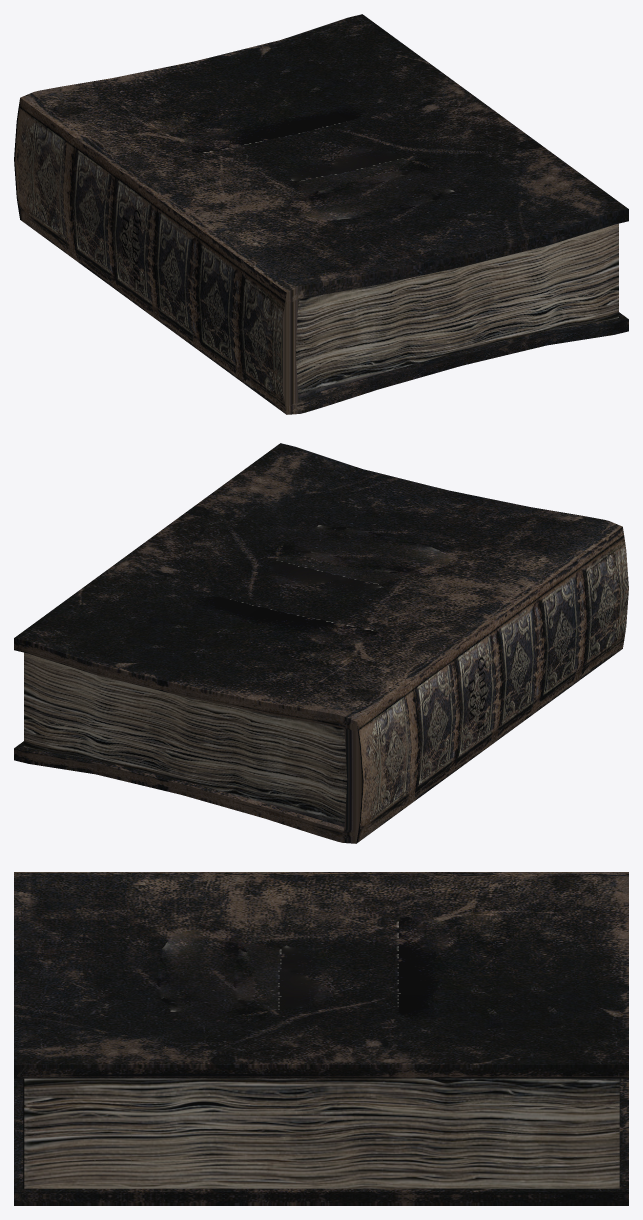
File: SpellBookClose1.fbx
3 views of the same model, one above another, from view 1: azimuth 30°, elevation 25°; view 2: azimuth 150°, elevation 25°; view 3: azimuth 270°, elevation 25° (orthographic). The views are drawn at different scales.
Visible parts, largest first — view 1: Book; view 2: Book; view 3: Book.
Boxes of the visible parts, left/top/right/bottom form: Book: left=14, top=14, right=628, bottom=414; Book: left=14, top=443, right=628, bottom=843; Book: left=14, top=872, right=628, bottom=1205.
Bounding box in the file's own units: 961 × 335 × 1273.
1 material, 1 textured.
